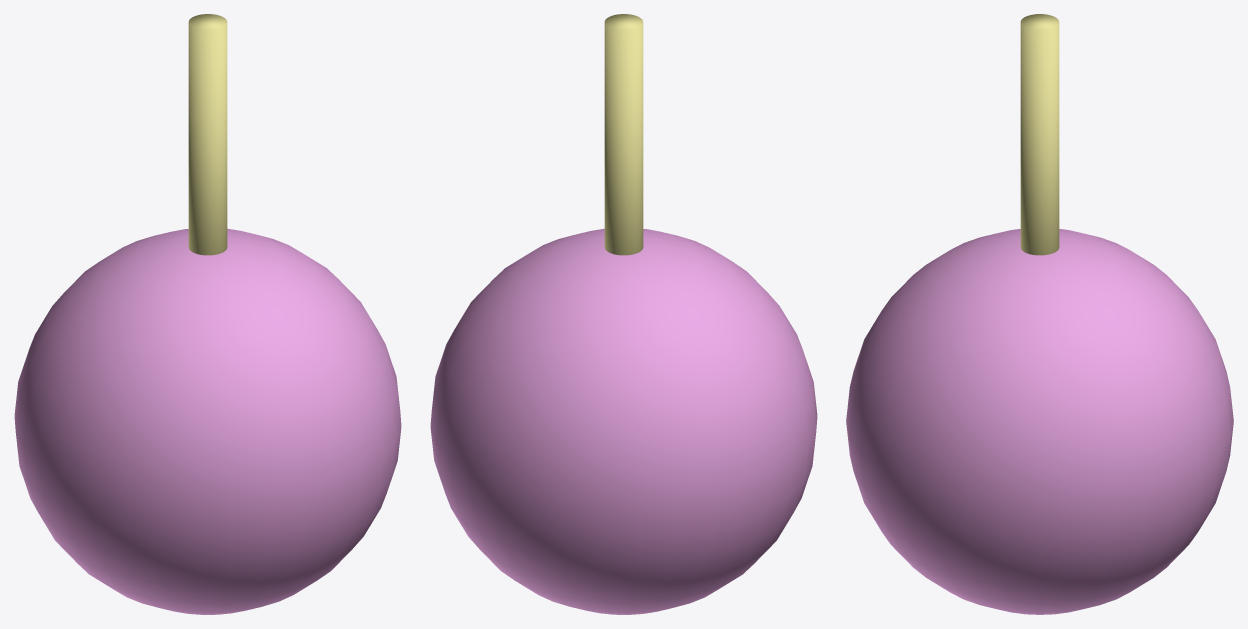
File: light.fbx
The picture shows the model from 3 angles, left to right: view 1: azimuth 30°, elevation 25°; view 2: azimuth 150°, elevation 25°; view 3: azimuth 270°, elevation 25°; orthographic projection.
Visible parts, largest first — view 1: Sphere; view 2: Sphere; view 3: Sphere.
Part boxes in pixels (bbox=[...]): Sphere: bbox=[14, 14, 401, 614]; Sphere: bbox=[430, 14, 817, 614]; Sphere: bbox=[846, 14, 1233, 614].
Bounding box in the file's own units: 40000 × 65424 × 40000.
